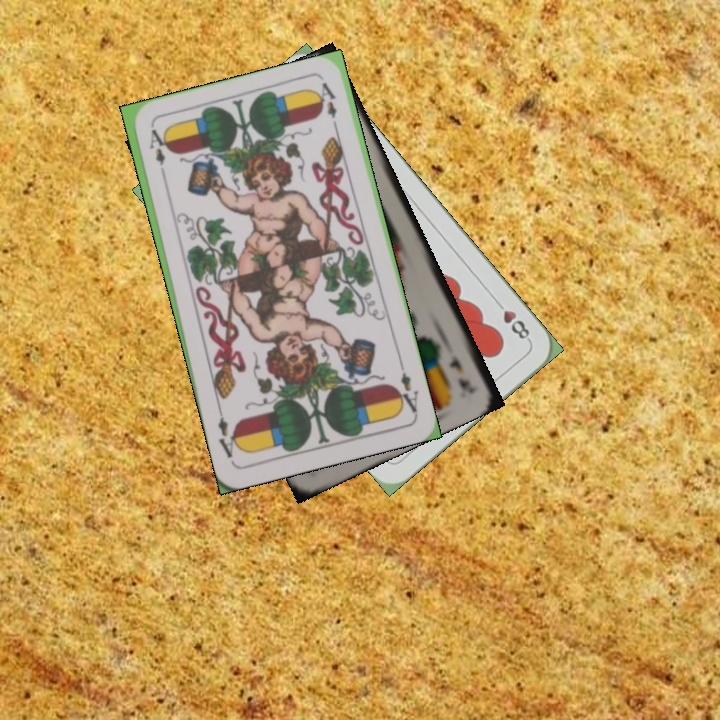EA: (392, 369, 421, 417), (145, 125, 169, 182)
EK: (446, 352, 473, 394)
H8: (490, 295, 533, 345)
